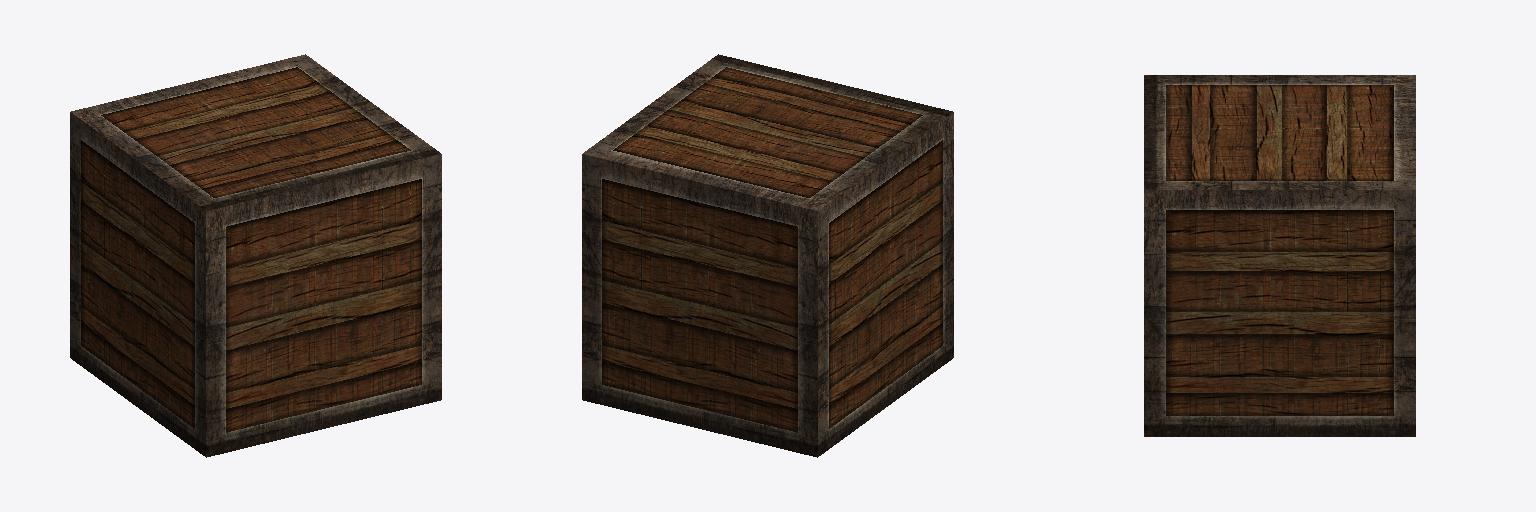
The picture shows the model from 3 angles: view 1: azimuth 30°, elevation 25°; view 2: azimuth 150°, elevation 25°; view 3: azimuth 270°, elevation 25°; orthographic projection.
Visible parts, largest first — view 1: Cube; view 2: Cube; view 3: Cube.
Part boxes in pixels (x1,y1,x2,y2): Cube: (70, 54, 441, 457); Cube: (582, 54, 953, 457); Cube: (1144, 75, 1415, 436).
Bounding box in the file's own units: 2 × 2 × 2.
Materials: 1 (1 with a texture image).